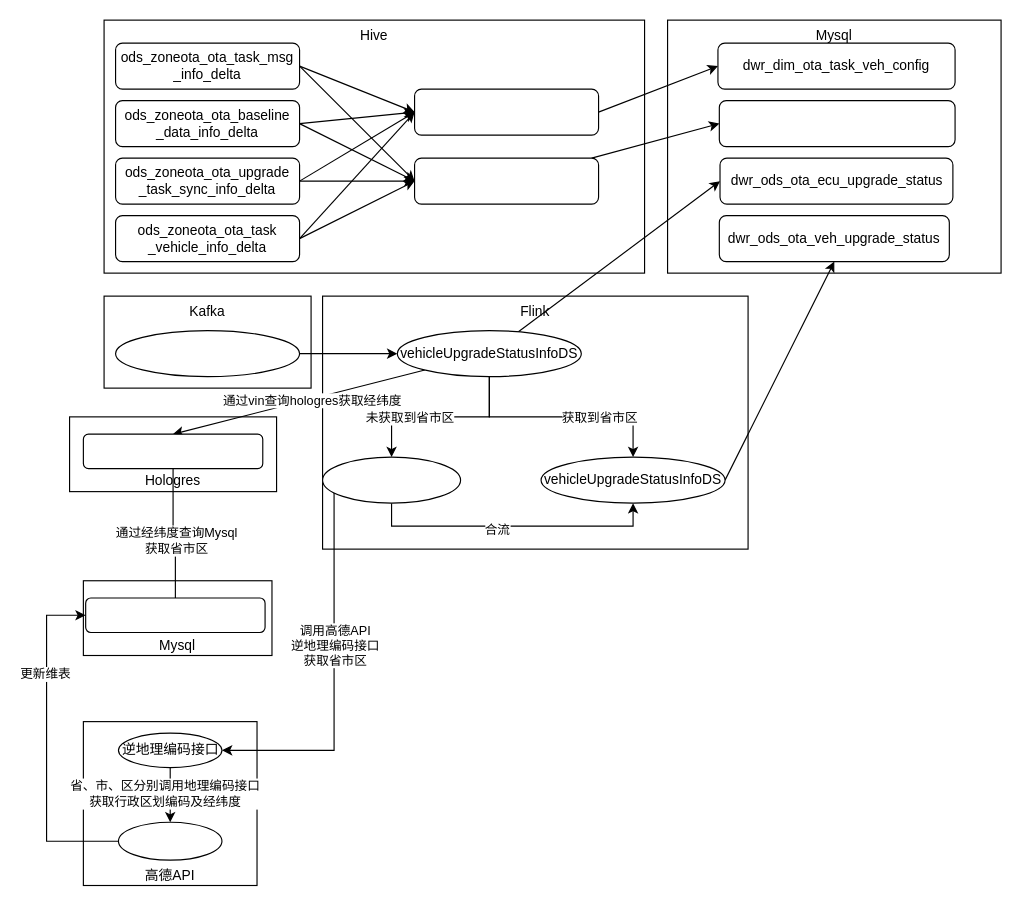
Image size: 1021x906. Some labels were removed from this diagram. Here are the shapes that lost their labels. From the top down, the centre of each, then its label:
At pixel 506 111: "ads_imwr_ota_task_veh_info".
At pixel 836 123: "dwr_dim_ota_task_ecu_config".
At pixel 506 180: "ads_imwr_ota_task_ecu_info".
At pixel 207 353: "ota_vehicle_upgrade _status_info".
At pixel 172 451: "ods_imvbs_vbs_data_gps".
At pixel 391 479: "sideOutPutDS".
At pixel 175 614: "dim_pub_area".
At pixel 169 840: "地理编码接口".
